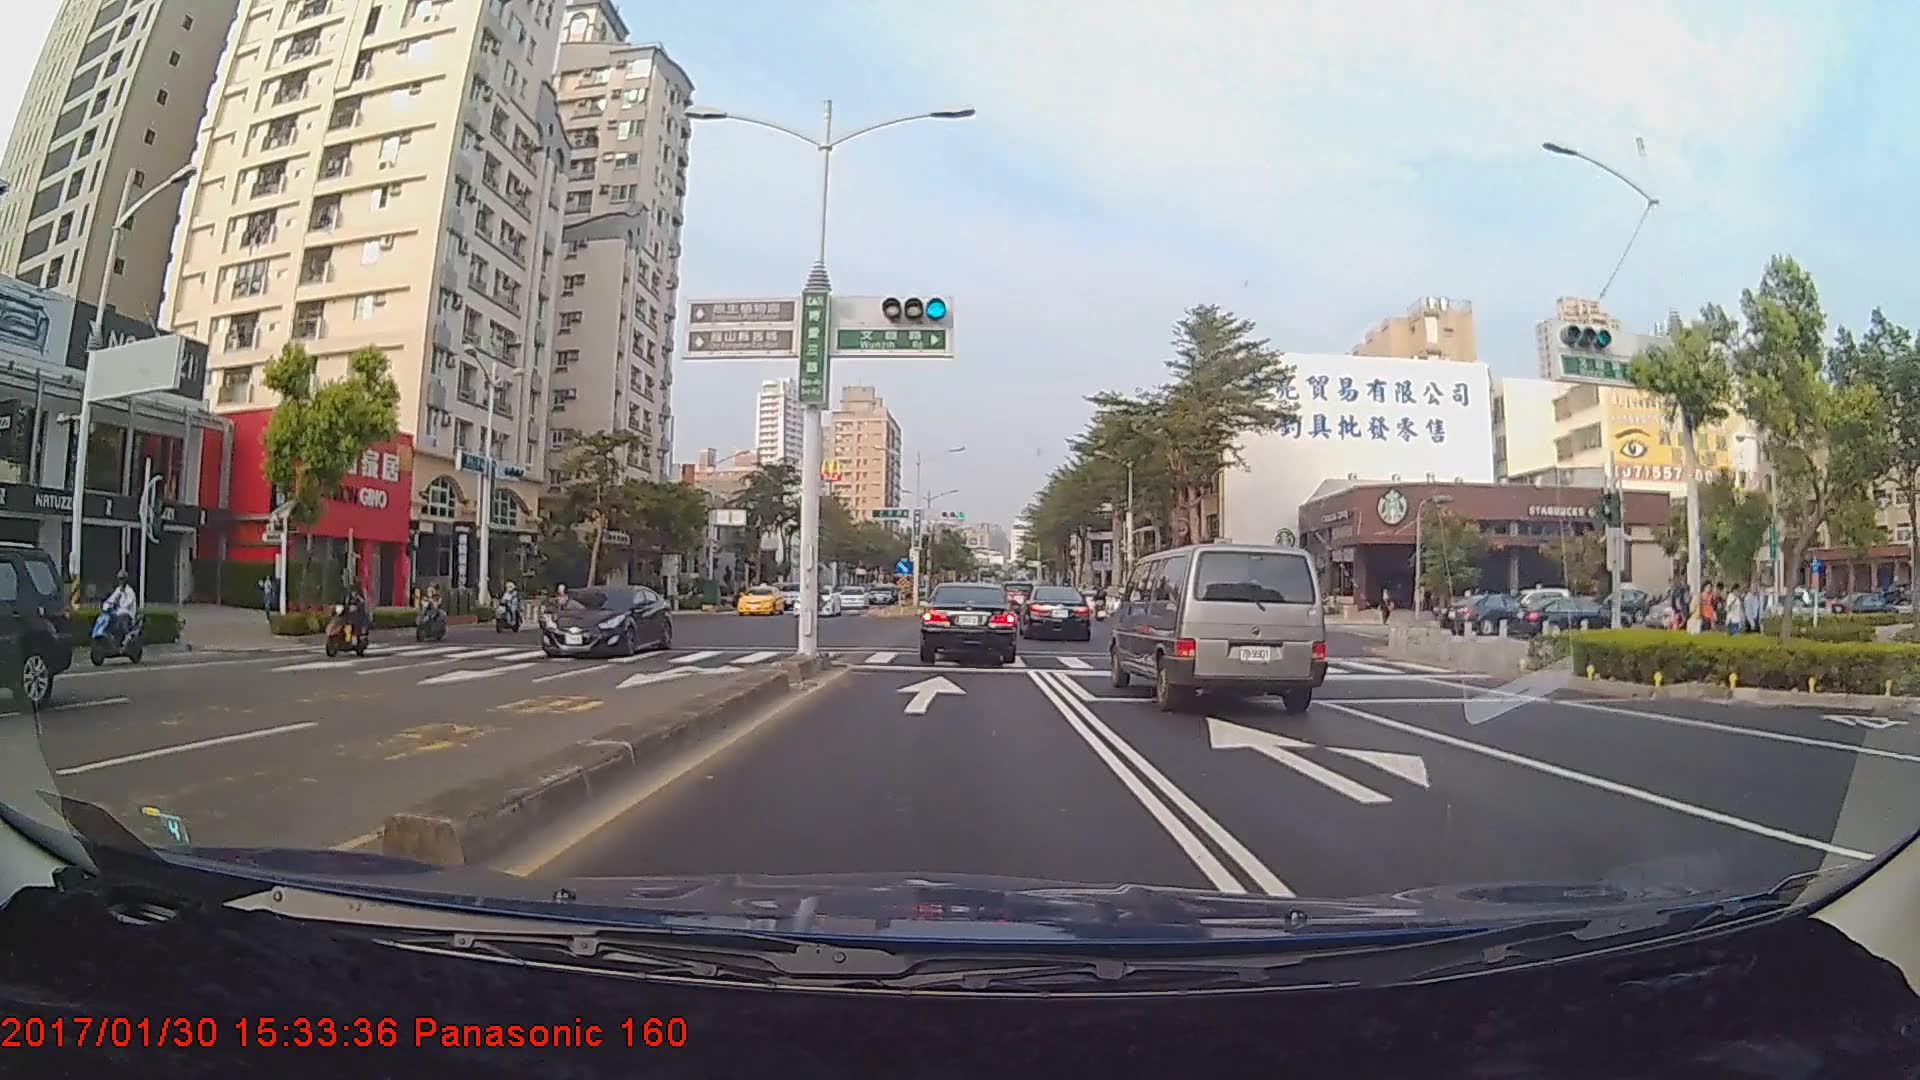pedestrian: (1672, 571, 1696, 648), (1742, 583, 1765, 650), (1727, 582, 1747, 649), (1698, 583, 1718, 645)
rider: (314, 574, 379, 665), (95, 573, 157, 664), (412, 578, 455, 648), (489, 578, 527, 635)
vehicle: (1117, 539, 1327, 715), (0, 543, 74, 709), (544, 586, 673, 654), (917, 582, 1019, 665), (1017, 586, 1091, 642), (1441, 590, 1525, 637), (734, 583, 785, 617), (793, 582, 841, 615), (836, 585, 869, 610)
